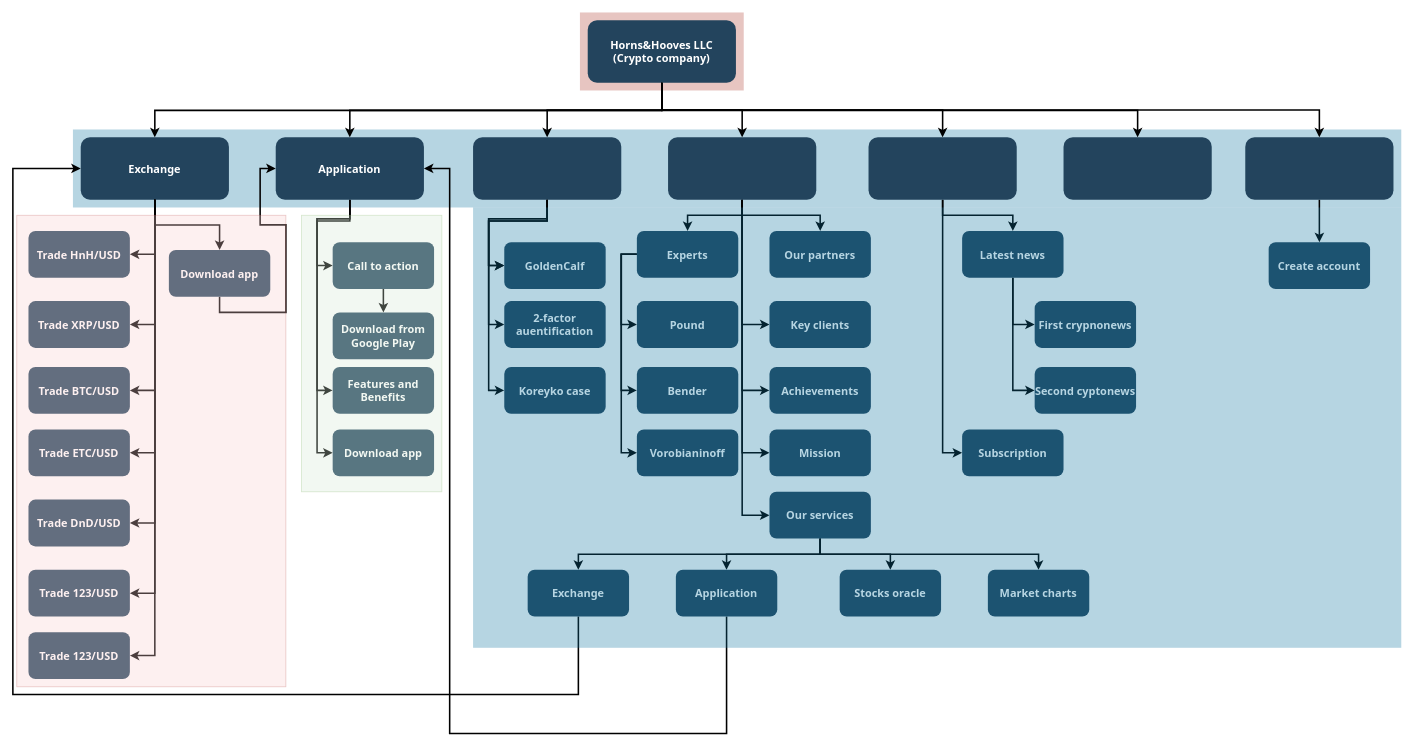
This 1414x746 diagram has some shape labels left out. Each missing label, with the box of its shape:
Contacts: (1063, 137, 1211, 199)
Get started: (1245, 137, 1393, 199)
News: (868, 137, 1016, 199)
Our team: (668, 137, 816, 199)
Security: (473, 137, 621, 199)
